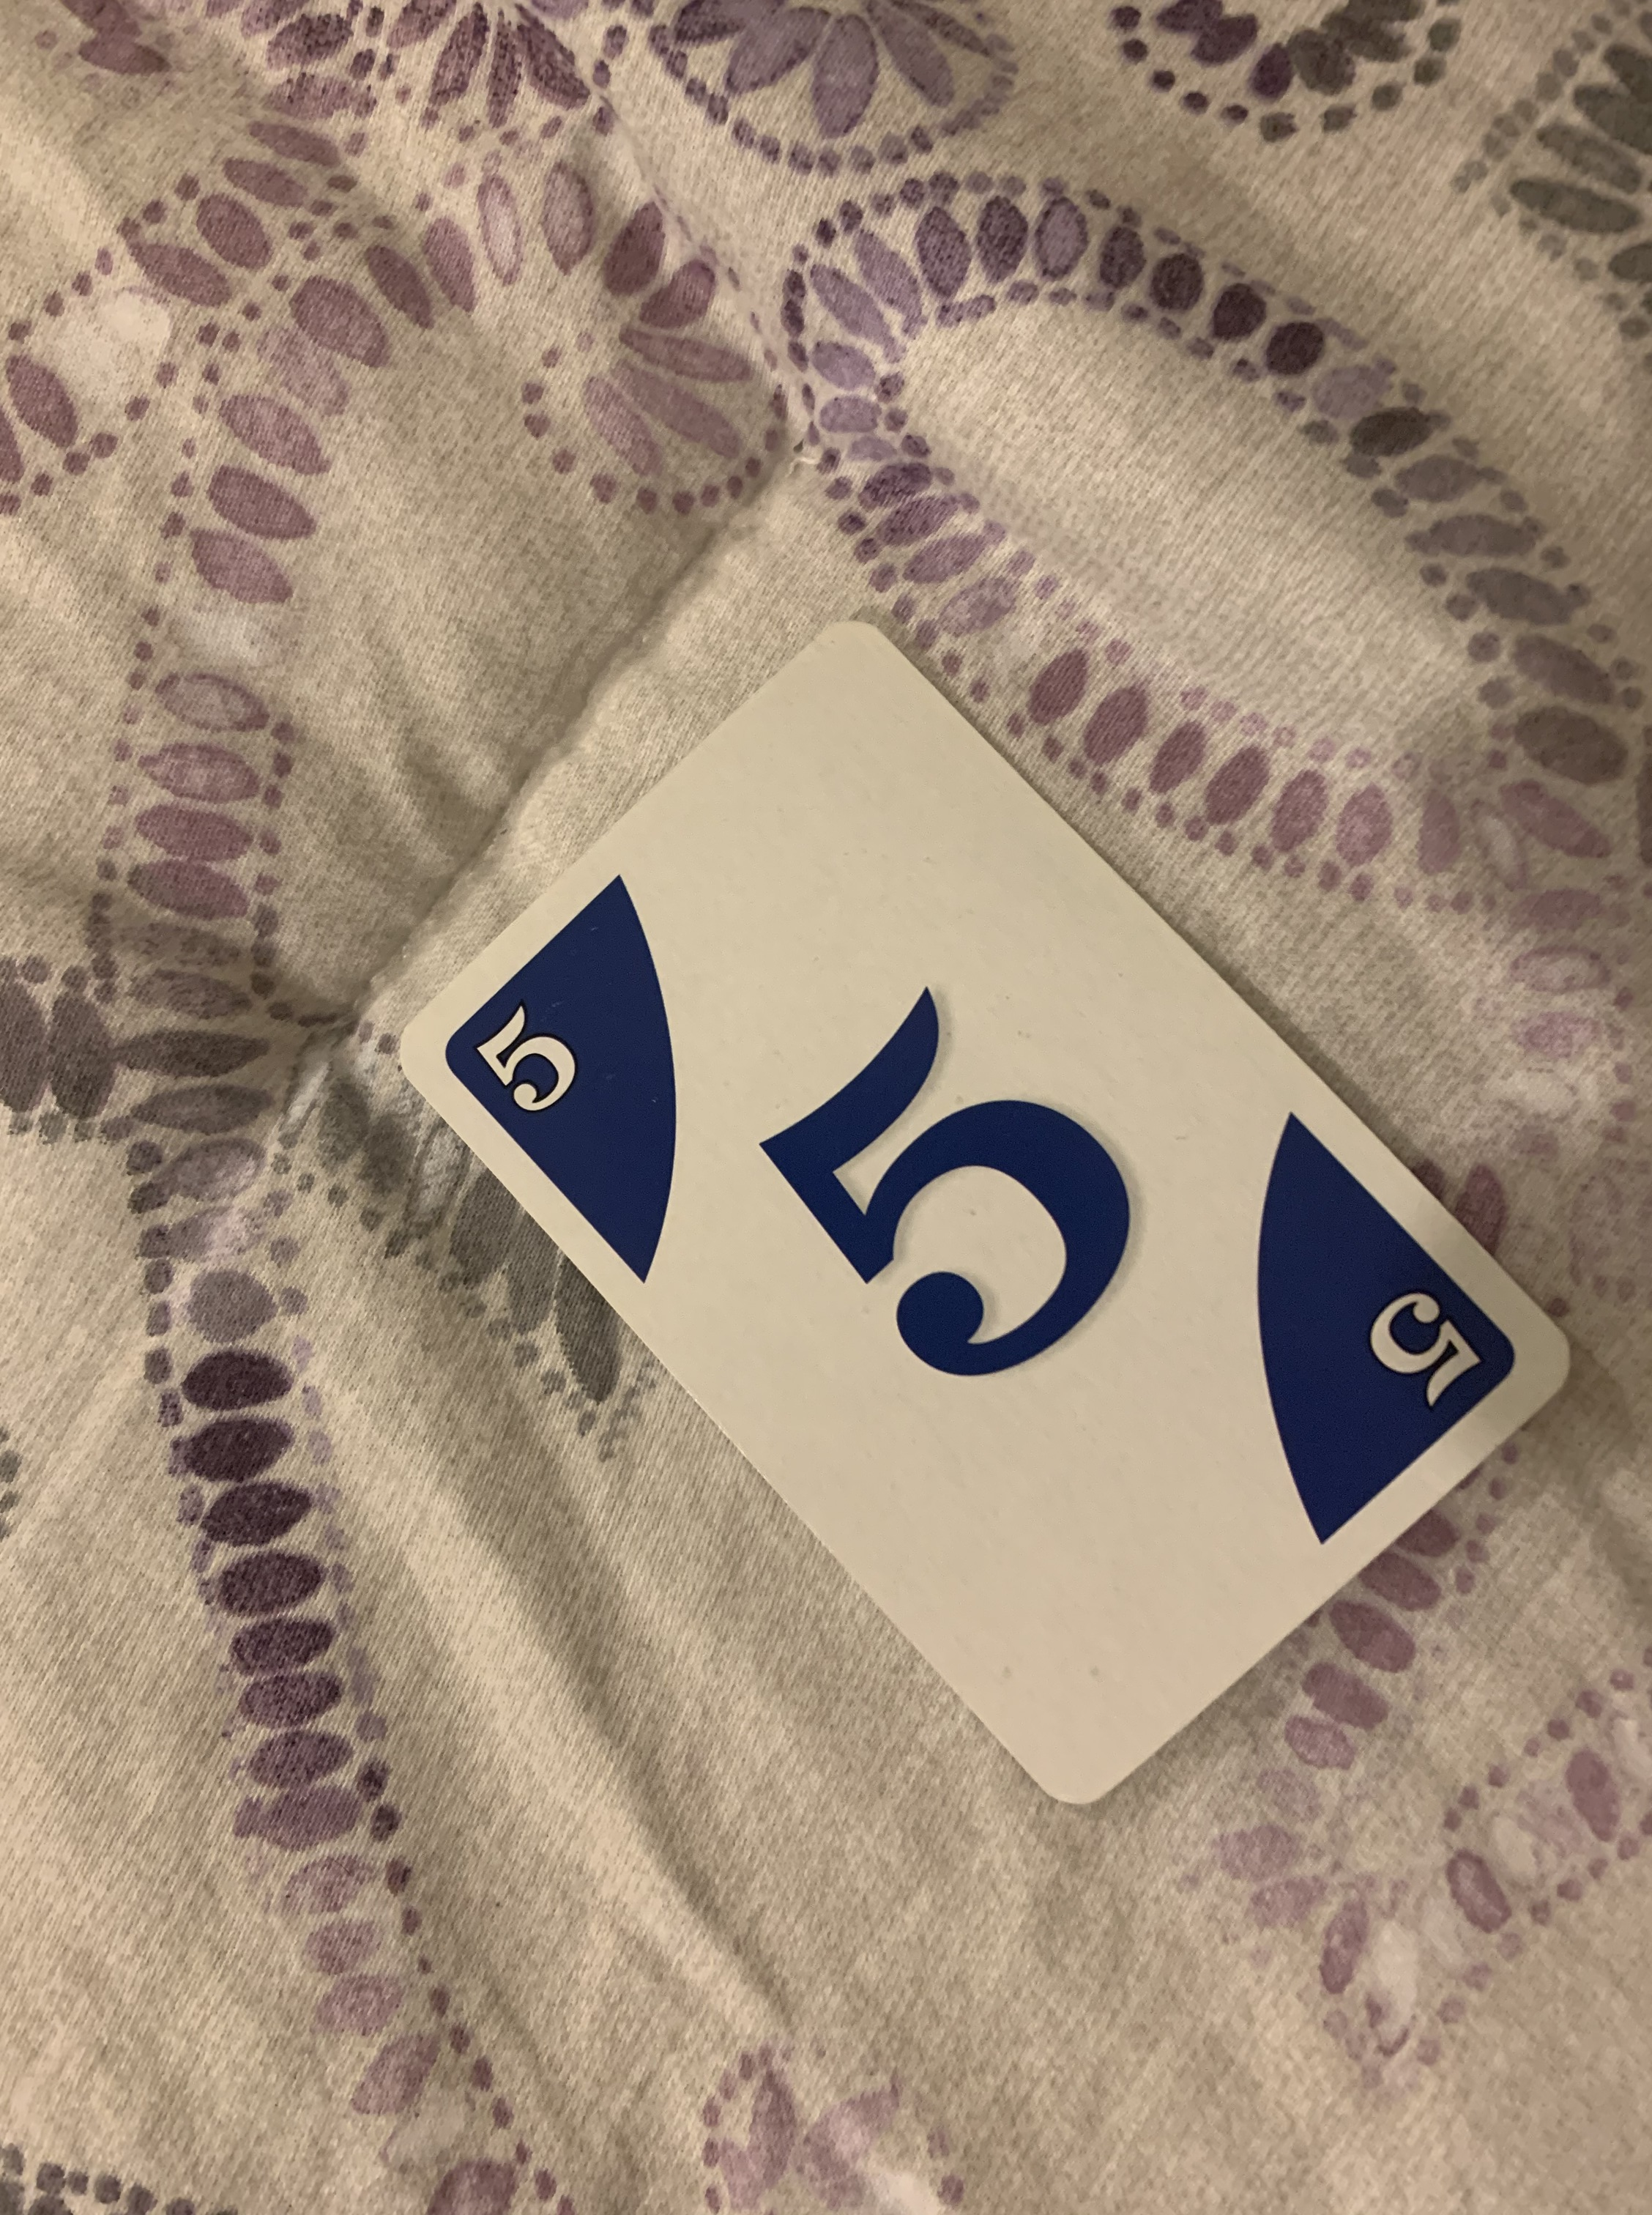five: (392, 616, 1574, 1807)
